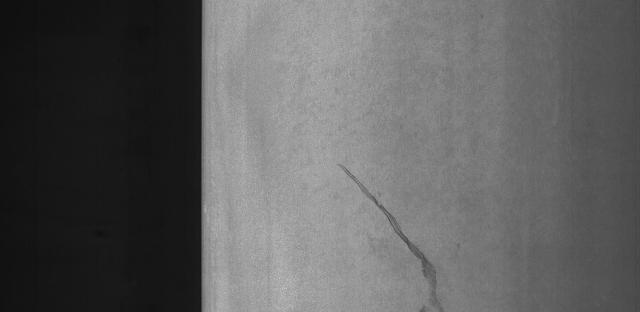water_spot: (328, 155, 453, 312)
